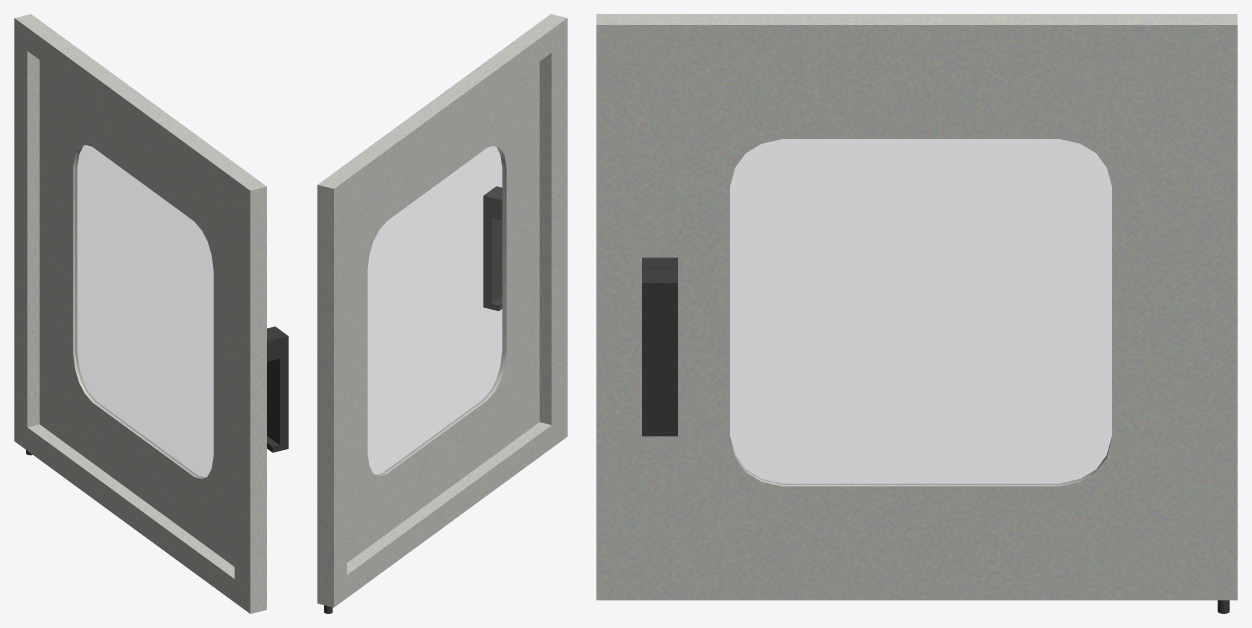
Rendered from SM_恒温干燥箱门.FBX.
3 renders of one model, left to right at view 1: azimuth 30°, elevation 25°; view 2: azimuth 150°, elevation 25°; view 3: azimuth 270°, elevation 25°, orthographic. The views are drawn at different scales.
Visible parts, largest first — view 1: SM_恒温干燥箱门; view 2: SM_恒温干燥箱门; view 3: SM_恒温干燥箱门.
Part boxes in pixels (<box>): SM_恒温干燥箱门: <box>14,14,288,613</box>; SM_恒温干燥箱门: <box>317,14,567,613</box>; SM_恒温干燥箱门: <box>596,14,1237,613</box>.
Bounding box in the file's own units: 77.8 × 587 × 578.
